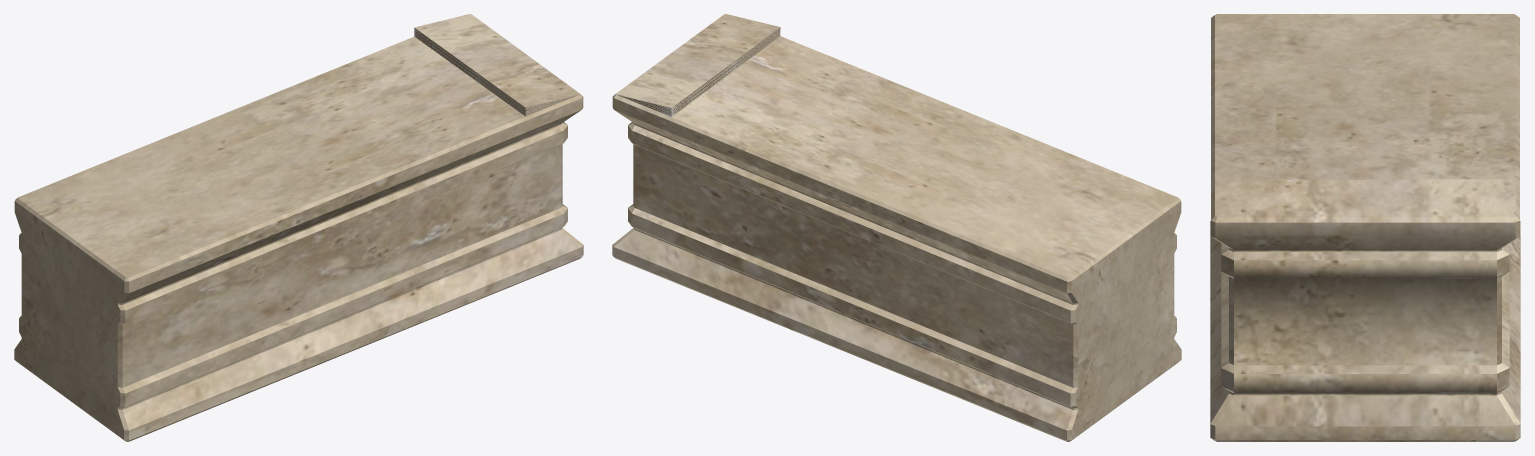
File: roof_face_top_outer.FBX
3 renders of one model, left to right at view 1: azimuth 30°, elevation 25°; view 2: azimuth 150°, elevation 25°; view 3: azimuth 270°, elevation 25°, orthographic. The views are drawn at different scales.
Parts seen in each view (by area): view 1: Object185; view 2: Object185; view 3: Object185.
Part boxes in pixels (<box>): Object185: <box>14,14,583,441</box>; Object185: <box>612,14,1181,441</box>; Object185: <box>1210,14,1520,441</box>.
Bounding box in the file's own units: 152 × 74.78 × 64.79.
